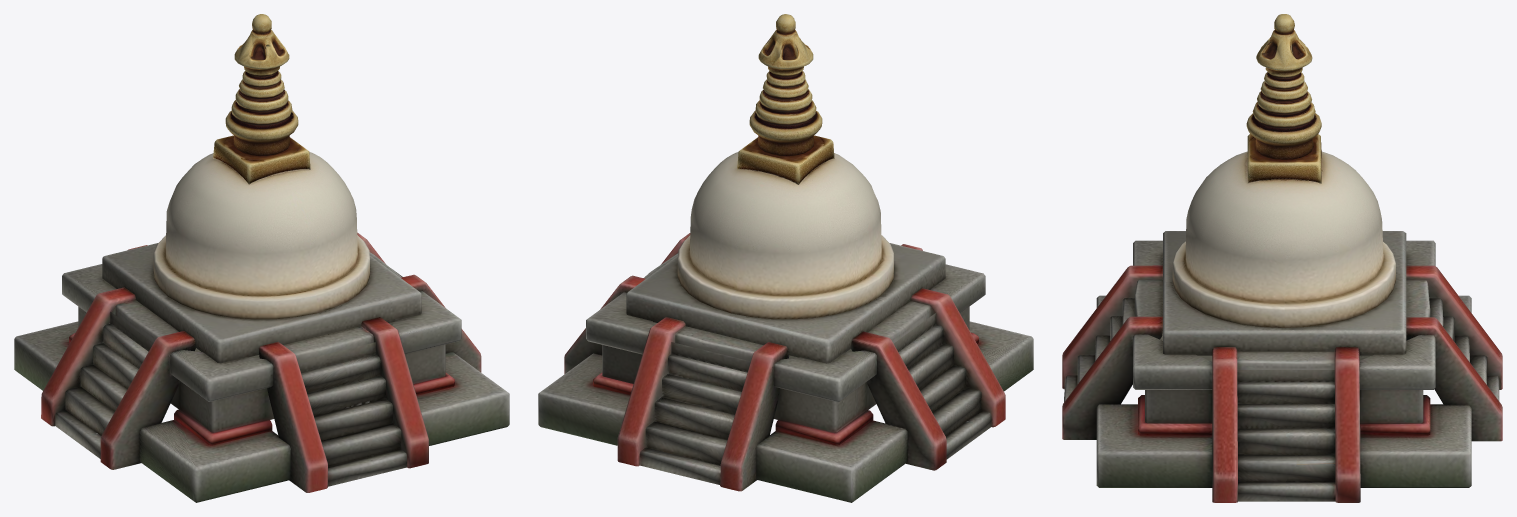
The model's file is tripo_convert_0ee314d3-9ebc-4dc6-a3b9-bc250e119d21.fbx.
3 views of the same model, side by side, from view 1: azimuth 30°, elevation 25°; view 2: azimuth 150°, elevation 25°; view 3: azimuth 270°, elevation 25° (orthographic). The views are drawn at different scales.
Parts seen in each view (by area): view 1: tripo_node_0ee314d3; view 2: tripo_node_0ee314d3; view 3: tripo_node_0ee314d3.
Part boxes in pixels (<box>): tripo_node_0ee314d3: <box>14,14,509,502</box>; tripo_node_0ee314d3: <box>538,14,1033,502</box>; tripo_node_0ee314d3: <box>1062,14,1502,502</box>.
Size of the model in its own units: 0.998 by 0.9863 by 0.998.
Materials: 1 (1 with a texture image).
